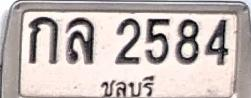2: (114, 18, 140, 64)
4: (204, 18, 228, 65)
5: (145, 18, 170, 64)
8: (175, 18, 199, 64)
A01: (28, 16, 58, 64)
A36: (66, 17, 94, 64)
CBI: (96, 73, 160, 98)
